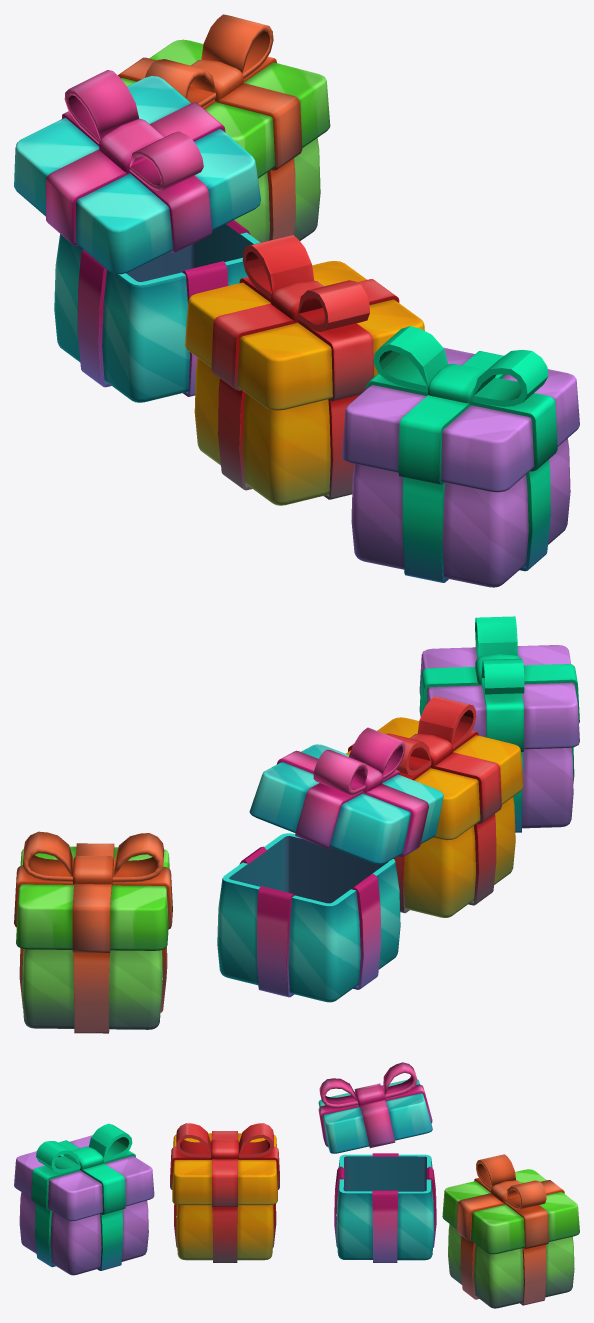
The model's file is catBoxes.fbx.
The picture shows the model from 3 angles, top to bottom: view 1: azimuth 30°, elevation 25°; view 2: azimuth 150°, elevation 25°; view 3: azimuth 270°, elevation 25°; orthographic projection. The views are drawn at different scales.
Parts seen in each view (by area): view 1: Cube.001, Cube, Cube.007, Cube.021, Cube.018, Cube.020, Cube.019, Cube.017, Cube.006, Cube.025, Cube.024, Cube.030 (+5 smaller); view 2: Cube, Cube.025, Cube.001, Cube.023, Cube.007, Cube.024, Cube.021, Cube.019, Cube.006, Cube.020, Cube.017, Cube.018 (+4 smaller); view 3: Cube, Cube.018, Cube.024, Cube.023, Cube.021, Cube.019, Cube.020, Cube.025, Cube.006, Cube.017, Cube.007, Cube.001 (+6 smaller).
Boxes of the visible parts, bbox=[...] form: Cube.001: bbox=[14, 76, 260, 274]; Cube: bbox=[54, 224, 259, 402]; Cube.007: bbox=[46, 70, 225, 253]; Cube.021: bbox=[366, 326, 557, 484]; Cube.018: bbox=[351, 438, 570, 587]; Cube.020: bbox=[211, 235, 399, 401]; Cube.019: bbox=[342, 347, 579, 492]; Cube.017: bbox=[185, 261, 424, 410]; Cube.006: bbox=[194, 358, 330, 505]; Cube.025: bbox=[118, 14, 302, 170]; Cube.024: bbox=[120, 39, 330, 178]; Cube.030: bbox=[402, 459, 550, 582]; Cube: bbox=[217, 833, 400, 1002]; Cube.025: bbox=[14, 831, 172, 952]; Cube.001: bbox=[249, 744, 443, 864]; Cube.023: bbox=[22, 949, 162, 1029]; Cube.007: bbox=[276, 727, 428, 856]; Cube.024: bbox=[16, 846, 169, 950]; Cube.021: bbox=[419, 616, 579, 751]; Cube.019: bbox=[419, 645, 579, 749]; Cube.006: bbox=[404, 797, 515, 917]; Cube.020: bbox=[348, 696, 501, 823]; Cube.017: bbox=[346, 717, 523, 839]; Cube.018: bbox=[522, 747, 573, 828]; Cube: bbox=[336, 1154, 433, 1260]; Cube.018: bbox=[19, 1192, 148, 1275]; Cube.024: bbox=[442, 1169, 579, 1254]; Cube.023: bbox=[448, 1224, 574, 1308]; Cube.021: bbox=[31, 1123, 135, 1214]; Cube.019: bbox=[14, 1135, 154, 1220]; Cube.020: bbox=[170, 1123, 279, 1206]; Cube.025: bbox=[456, 1154, 564, 1249]; Cube.006: bbox=[176, 1205, 273, 1260]; Cube.017: bbox=[172, 1133, 277, 1205]; Cube.007: bbox=[318, 1062, 432, 1148]; Cube.001: bbox=[318, 1079, 432, 1153].
Bounding box in the file's own units: 536 × 387 × 1204.
Materials: 4 (4 with a texture image).
